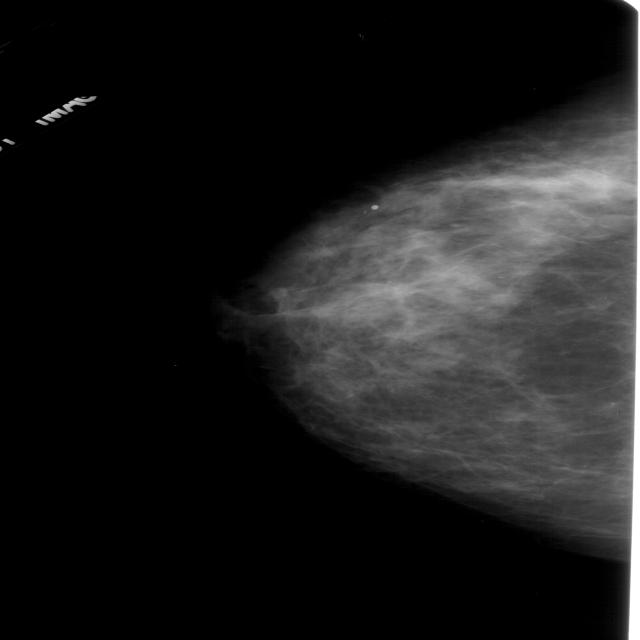cancer: (251, 164, 640, 386)
